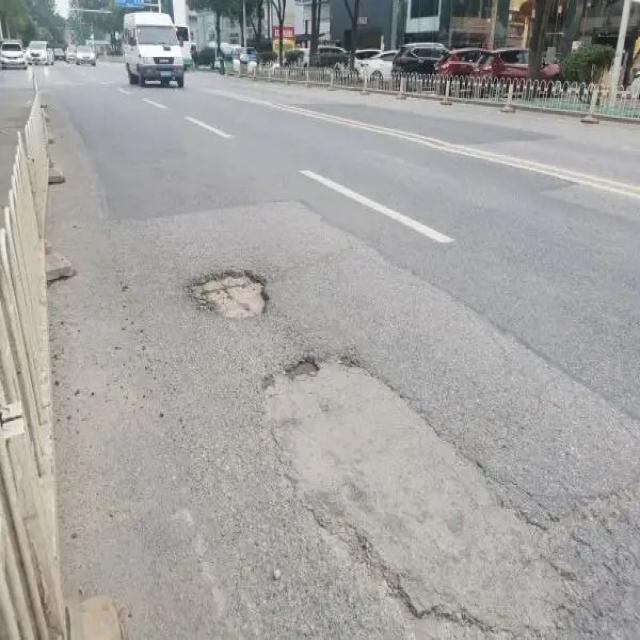pothole: (256, 354, 579, 633), (187, 272, 276, 318)
